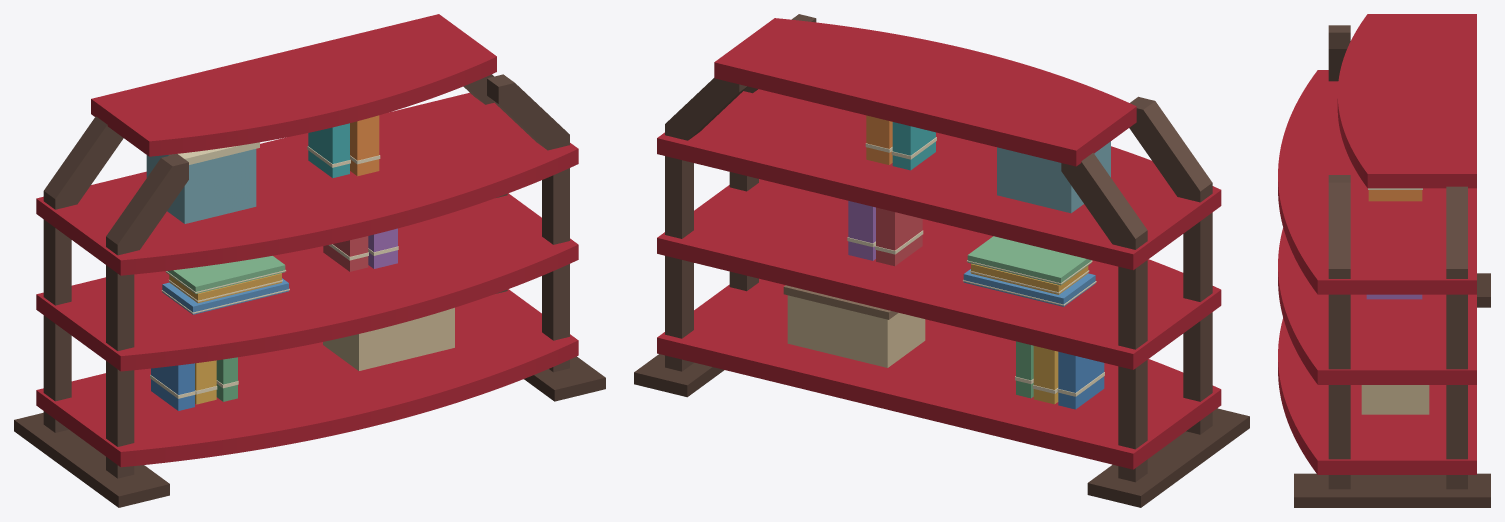
3 views of the same model, side by side, from view 1: azimuth 30°, elevation 25°; view 2: azimuth 150°, elevation 25°; view 3: azimuth 270°, elevation 25° (orthographic). The views are drawn at different scales.
Parts seen in each view (by area): view 1: geometry_0_mesh.002, geometry_0_mesh.001, geometry_0_mesh, geometry_0_mesh.003, geometry_0_cube.001, geometry_0_cube, geometry_0_cube.002, geometry_0_cube.024, geometry_0_cube.012, geometry_0_cube.004, geometry_0_hull, geometry_0_hull.001 (+13 smaller); view 2: geometry_0_mesh.001, geometry_0_mesh, geometry_0_mesh.002, geometry_0_mesh.003, geometry_0_cube.012, geometry_0_cube.002, geometry_0_cube, geometry_0_cube.001, geometry_0_cube.005, geometry_0_cube.024, geometry_0_hull, geometry_0_hull.001 (+14 smaller); view 3: geometry_0_mesh.003, geometry_0_mesh.002, geometry_0_mesh.001, geometry_0_mesh, geometry_0_cube.003, geometry_0_cube.004, geometry_0_cube.005, geometry_0_hull.002, geometry_0_cube.012, geometry_0_hull.003, geometry_0_hull, geometry_0_cube.028 (+2 smaller).
Boxes of the visible parts, x1,y1,x2,y2 form: geometry_0_mesh.002: (36,92,578,275); geometry_0_mesh.001: (36,193,578,371); geometry_0_mesh: (36,289,578,467); geometry_0_mesh.003: (91,14,496,156); geometry_0_cube.001: (106,236,134,478); geometry_0_cube: (14,412,169,507); geometry_0_cube.002: (43,191,71,432); geometry_0_cube.024: (146,149,256,223); geometry_0_cube.012: (323,307,454,370); geometry_0_cube.004: (542,134,569,372); geometry_0_hull: (106,154,188,254); geometry_0_hull.001: (44,116,123,209); geometry_0_mesh.001: (657,179,1221,369); geometry_0_mesh: (657,278,1221,469); geometry_0_mesh.002: (657,89,1221,270); geometry_0_mesh.003: (714,18,1136,166); geometry_0_cube.012: (787,295,925,367); geometry_0_cube.002: (1118,230,1147,482); geometry_0_cube: (1087,408,1249,507); geometry_0_cube.001: (1183,183,1212,434); geometry_0_cube.005: (665,124,693,371); geometry_0_cube.024: (997,141,1110,213); geometry_0_hull: (1129,96,1212,201); geometry_0_hull.001: (1061,152,1147,249); geometry_0_mesh.003: (1337,14,1476,188); geometry_0_mesh.002: (1278,70,1476,294); geometry_0_mesh.001: (1278,228,1476,384); geometry_0_mesh: (1278,318,1476,474); geometry_0_cube.003: (1294,473,1490,507); geometry_0_cube.004: (1328,269,1350,489); geometry_0_cube.005: (1446,269,1467,489); geometry_0_hull.002: (1328,175,1350,275); geometry_0_cube.012: (1361,385,1429,414); geometry_0_hull.003: (1446,186,1467,275); geometry_0_hull: (1328,25,1350,81); geometry_0_cube.028: (1368,190,1422,201).
Bounding box in the file's own units: 5.32 × 3.35 × 2.14.
